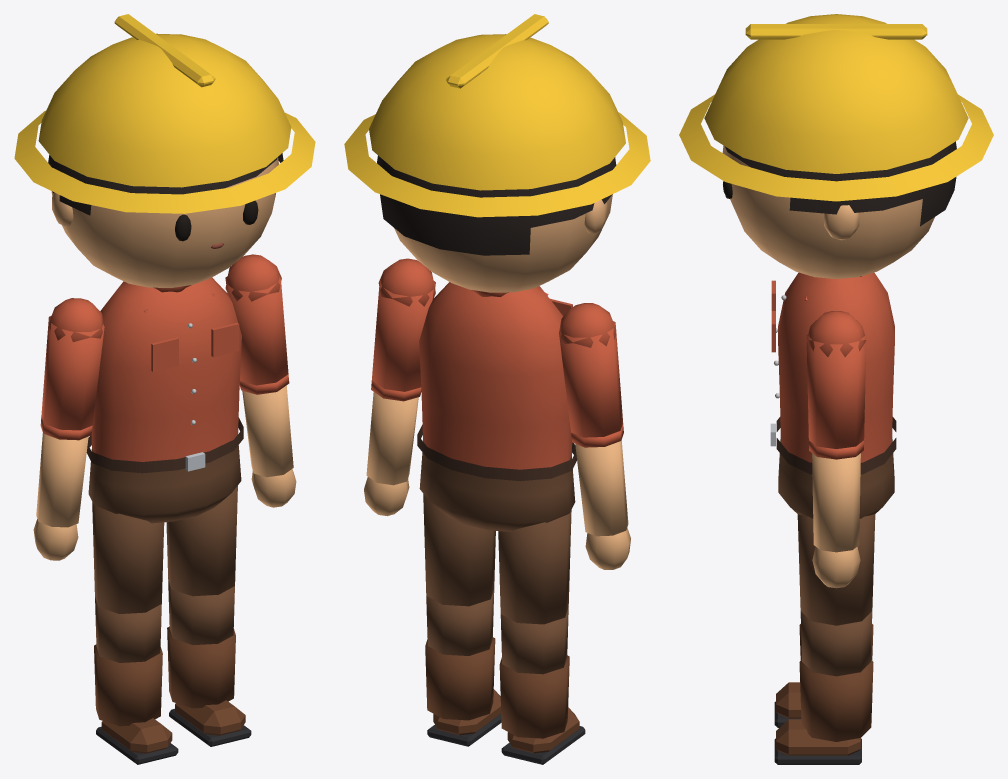
Rendered from era3_builder.glb.
3 renders of one model, left to right at view 1: azimuth 30°, elevation 25°; view 2: azimuth 150°, elevation 25°; view 3: azimuth 270°, elevation 25°, orthographic. The views are drawn at different scales.
Parts seen in each view (by area): view 1: head, body, shin_L, shin_R, arm_R, leg_R, arm_L, forearm_R, leg_L, forearm_L; view 2: head, body, shin_R, shin_L, arm_R, leg_R, arm_L, forearm_R, leg_L, forearm_L; view 3: head, body, shin_L, arm_L, forearm_L, leg_L, shin_R.
Boxes of the visible parts, x1,y1,x2,y2 form: head: [14, 14, 315, 287]; body: [86, 277, 243, 523]; shin_L: [167, 578, 251, 746]; shin_R: [94, 597, 178, 764]; arm_R: [41, 298, 104, 430]; leg_R: [92, 502, 164, 613]; arm_L: [225, 254, 288, 385]; forearm_R: [33, 416, 92, 560]; leg_L: [166, 485, 237, 596]; forearm_L: [239, 374, 296, 507]; head: [344, 14, 650, 292]; body: [417, 282, 576, 531]; shin_R: [499, 607, 585, 764]; shin_L: [425, 589, 501, 746]; arm_R: [559, 303, 622, 437]; leg_R: [498, 510, 571, 624]; arm_L: [372, 258, 435, 391]; forearm_R: [571, 423, 630, 569]; leg_L: [423, 494, 495, 606]; forearm_L: [364, 380, 421, 516]; head: [679, 14, 993, 278]; body: [770, 272, 896, 518]; shin_L: [774, 611, 873, 764]; arm_L: [806, 311, 866, 448]; forearm_L: [809, 440, 863, 588]; leg_L: [797, 514, 875, 625]; shin_R: [774, 624, 873, 727].
Size of the model in its own units: 0.611 by 1.52 by 0.611.
